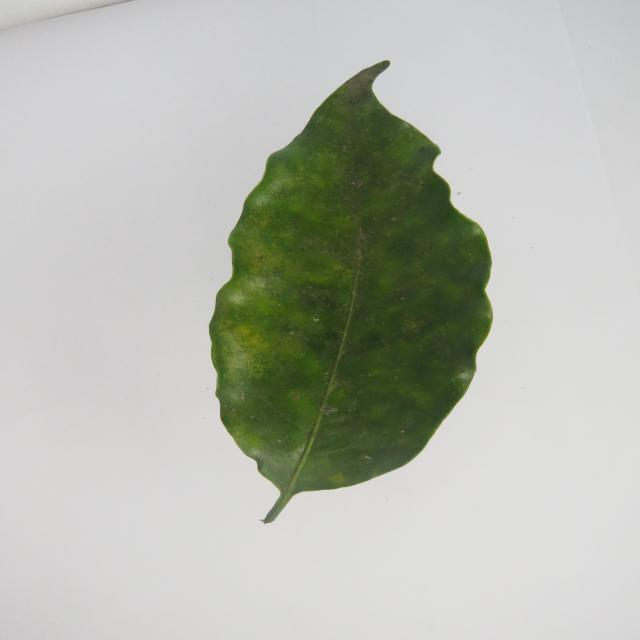DeficienciaNutricional-Calcio: (210, 61, 492, 522)
